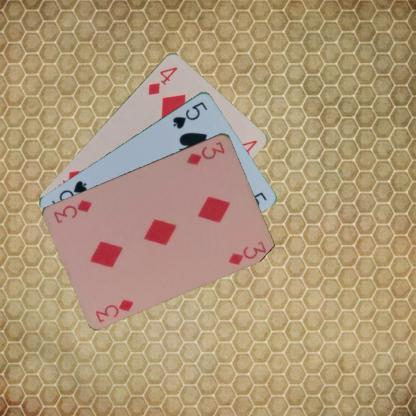3d: (183, 138, 227, 166), (93, 296, 136, 324)
4d: (145, 64, 179, 96)
5s: (170, 98, 209, 130)
